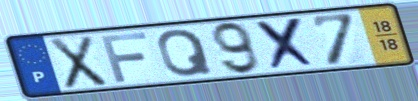7: (313, 10, 356, 67)
9: (210, 20, 262, 77)
F: (98, 30, 151, 84)
Q: (155, 27, 217, 79)
X: (253, 16, 321, 73), (47, 34, 110, 92)
